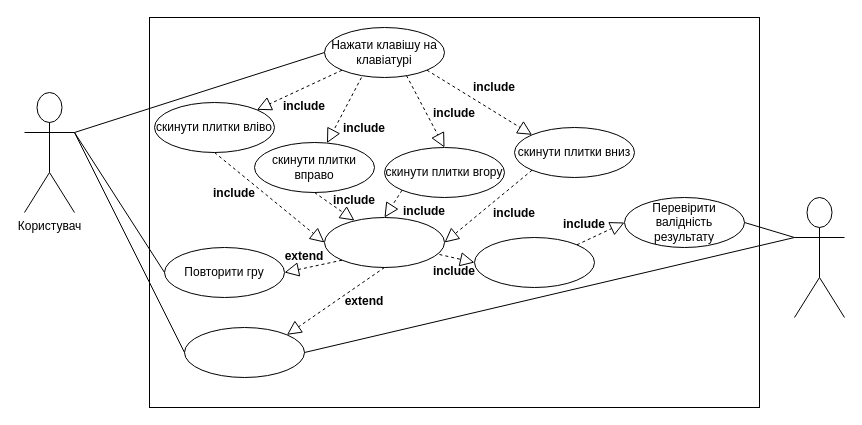
Image size: 862x425. Some labels were removed from this diagram. The centre of each missing label's shape, as x and y in pixels:
Відіслати результат на сервер: the point at 534,262
Переглянути всі результати: the point at 244,352
Сервер: the point at 819,257
Хід неможливий, завершення гри: the point at 384,242
